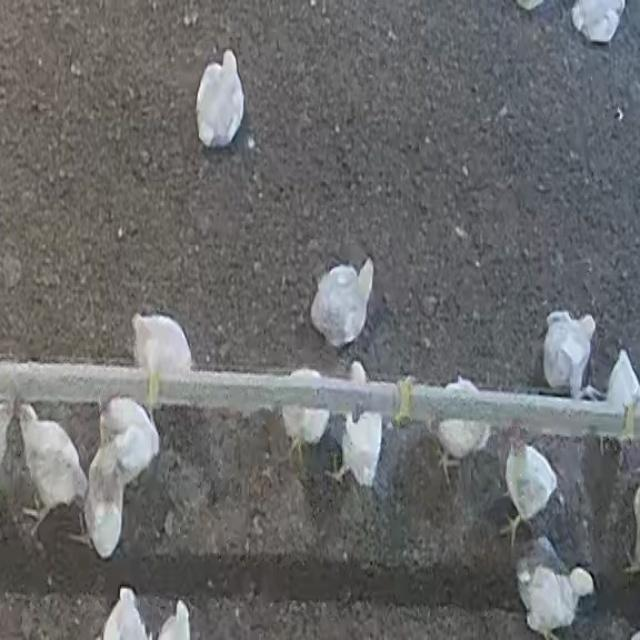chicken: (17, 402, 92, 542), (502, 432, 560, 546), (435, 378, 493, 486), (518, 560, 596, 638), (130, 312, 192, 410), (310, 258, 374, 352), (278, 366, 332, 472), (339, 368, 385, 490), (192, 49, 244, 149), (542, 311, 599, 400), (101, 395, 158, 482), (86, 440, 122, 557), (602, 350, 640, 442), (571, 0, 627, 44)
